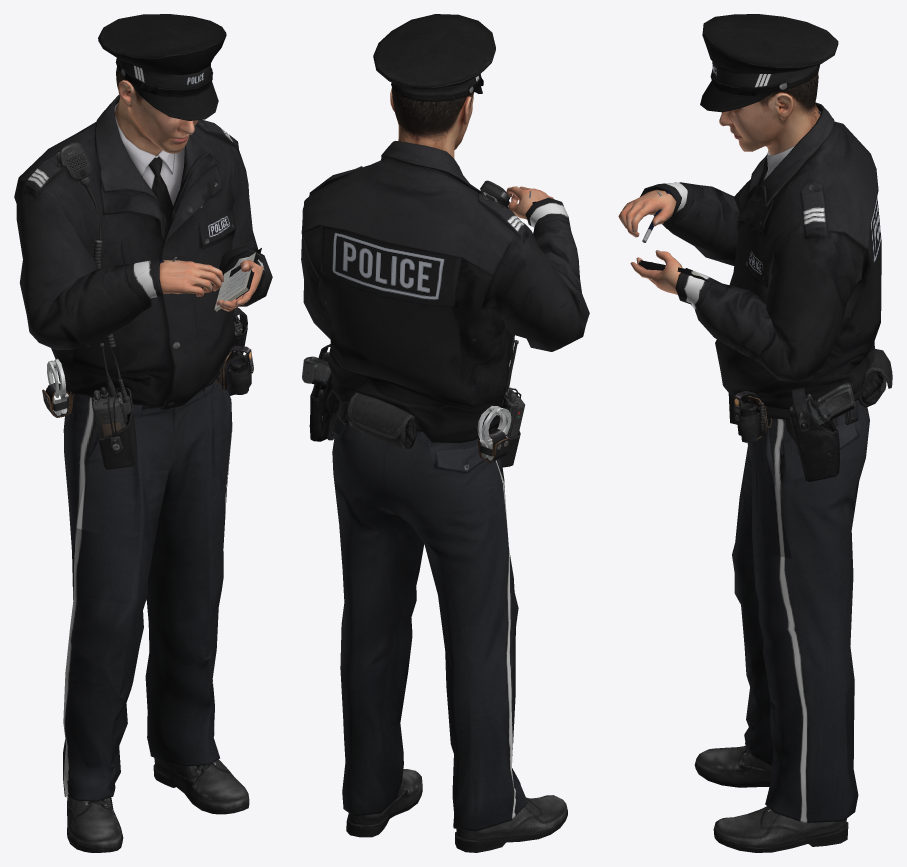
The model's file is PoliceOfficer_TakingNotes.obj.
3 renders of one model, left to right at view 1: azimuth 30°, elevation 25°; view 2: azimuth 150°, elevation 25°; view 3: azimuth 270°, elevation 25°, orthographic.
Parts seen in each view (by area): view 1: Body, Head, Equipment, Props; view 2: Body, Head, Equipment, Pistol; view 3: Body, Head, Equipment, Pistol.
Part boxes in pixels (x1,y1,x2,y2): Body: [14, 94, 272, 852]; Head: [98, 14, 226, 156]; Equipment: [42, 142, 253, 469]; Props: [159, 248, 261, 312]; Body: [301, 141, 589, 852]; Head: [373, 14, 495, 158]; Equipment: [309, 180, 525, 467]; Pistol: [302, 352, 330, 398]; Body: [618, 102, 881, 852]; Head: [700, 14, 838, 155]; Equipment: [728, 349, 892, 481]; Pistol: [790, 383, 855, 431].
Size of the model in its own units: 0.6059 by 1.8 by 0.5656.
5 materials, 5 textured.
